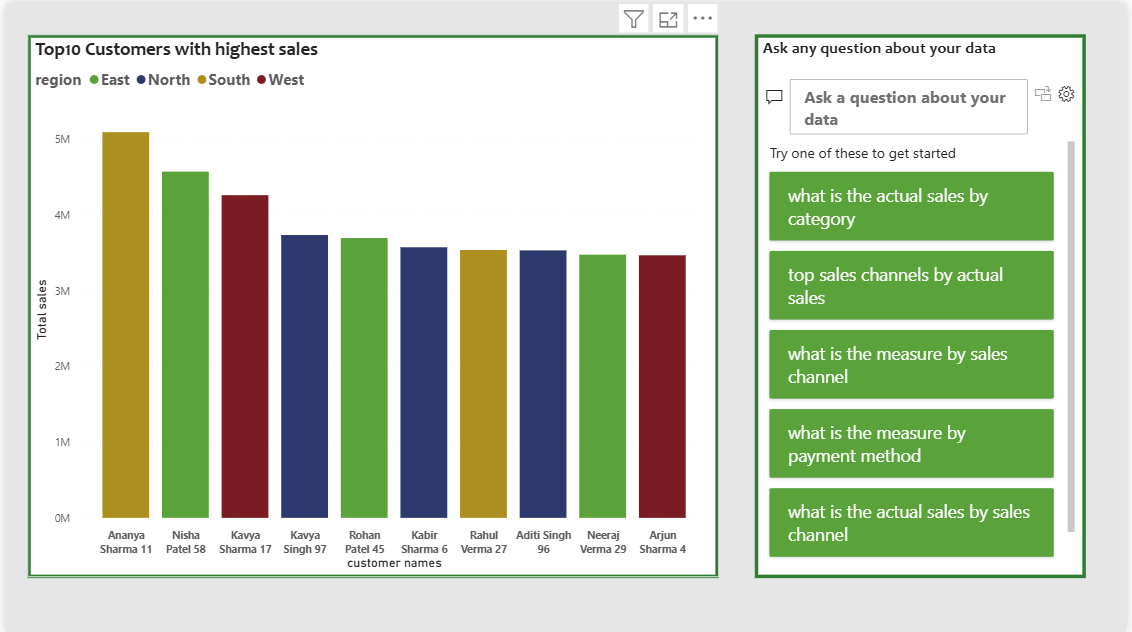

This screenshot's page, from the dashboard's own definition file:
{"tool":"powerbi","page":{"name":"Page 4","canvas":[1280,720],"ordinal":3},"visuals":[{"type":"columnChart","title":"Top10 Customers with highest sales","fields":{"Category":["customers.customer_name"],"Y":["Sum(order_details.total sales per order)"],"Series":["customers.region"]},"box":[24.3,35.7,790,621.4],"z":0},{"type":"qnaVisual","title":"Ask any question about your data","box":[855.7,35.7,378.6,621.4],"z":1000}]}

Visuals, with their boxes in screenshot pixels (x1, y1, x2, y2), scaled from the page's 1280x720 canvas onto the 1132x632 screenshot:
"Top10 Customers with highest sales" columnChart: <region>21, 31, 720, 577</region>
"Ask any question about your data" qnaVisual: <region>757, 31, 1092, 577</region>
